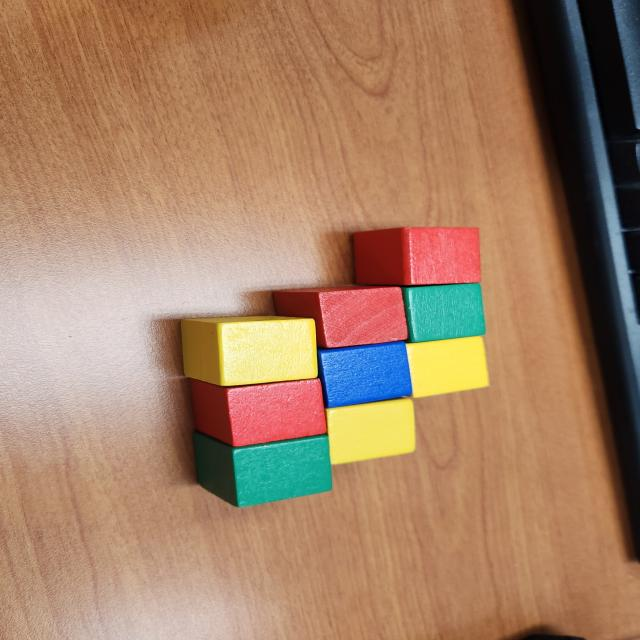blue: (318, 341, 415, 408)
green: (190, 433, 336, 510), (402, 282, 486, 344)
red: (187, 378, 328, 447), (275, 286, 410, 349), (347, 226, 482, 286)
yellow: (180, 316, 318, 387), (328, 398, 416, 466), (403, 337, 492, 398)
